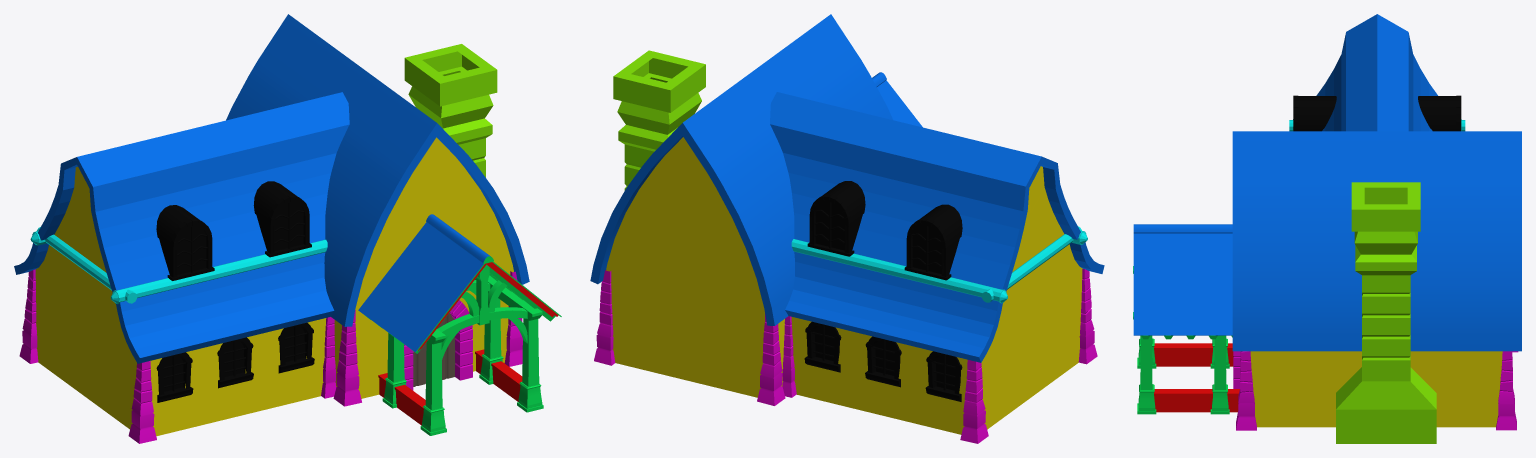
The model's file is MOD_BigHouse.fbx.
3 renders of one model, left to right at view 1: azimuth 30°, elevation 25°; view 2: azimuth 150°, elevation 25°; view 3: azimuth 270°, elevation 25°, orthographic. The views are drawn at different scales.
Parts seen in each view (by area): view 1: BigHouse; view 2: BigHouse; view 3: BigHouse.
Boxes of the visible parts, bbox=[...] form: BigHouse: bbox=[14, 14, 561, 443]; BigHouse: bbox=[590, 14, 1104, 443]; BigHouse: bbox=[1133, 14, 1521, 443].
Bounding box in the file's own units: 1223 × 747 × 1028.
